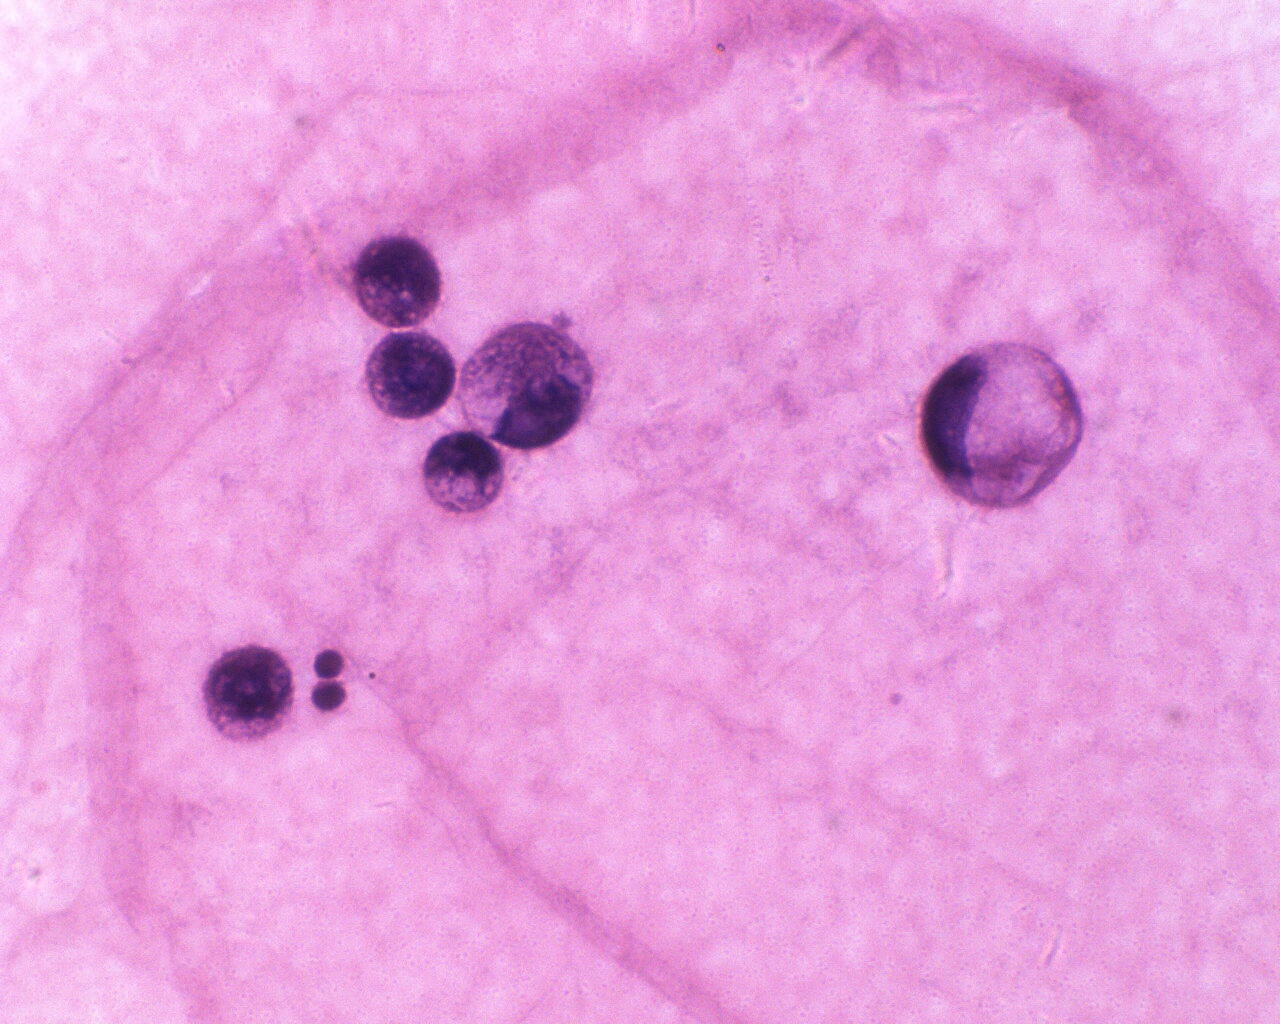ab: (453, 318, 598, 447), (351, 225, 446, 332), (201, 639, 298, 743), (365, 327, 459, 421), (421, 427, 507, 518)
histo: (916, 332, 1091, 512)
lymph: (309, 681, 352, 717), (309, 645, 346, 680)
